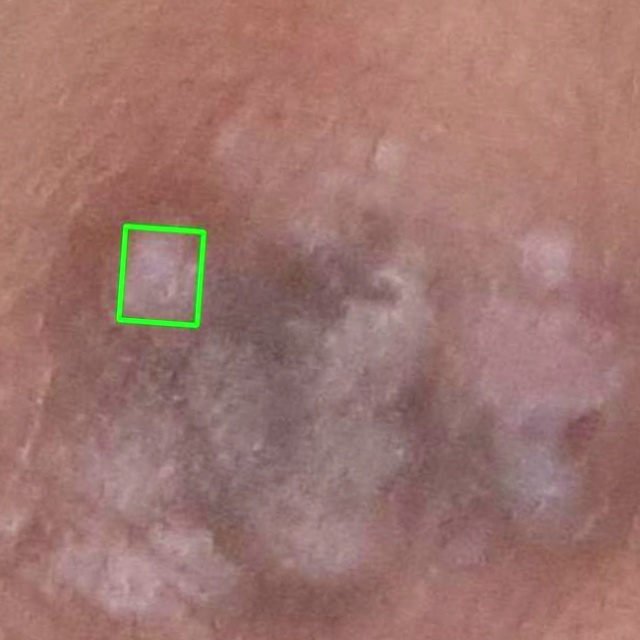Contact Dermatitis: (118, 226, 203, 325)
